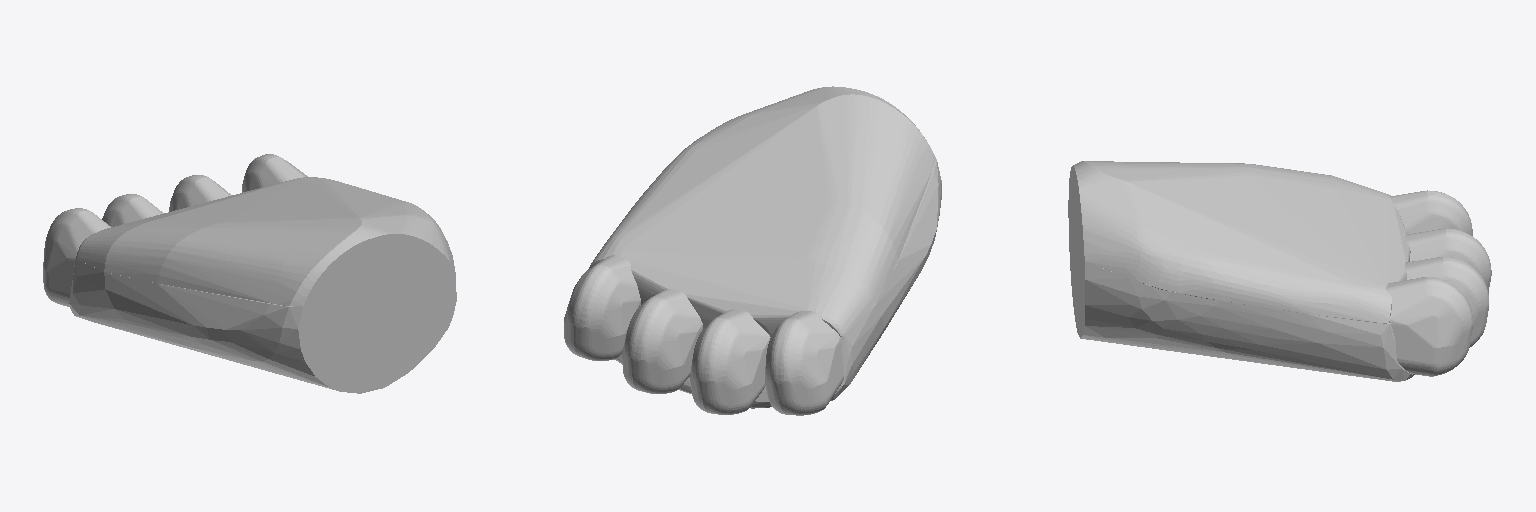
File: FB_palm_ref.obj
The picture shows the model from 3 angles: view 1: azimuth 30°, elevation 25°; view 2: azimuth 150°, elevation 25°; view 3: azimuth 270°, elevation 25°; orthographic projection.
Visible parts, largest first — view 1: off; view 2: off; view 3: off.
Boxes of the visible parts, box(x1,y1,x2,y2) form: off: box(43, 154, 456, 393); off: box(564, 86, 941, 415); off: box(1068, 161, 1491, 381).
Size of the model in its own units: 0.0816 by 0.053 by 0.1106.